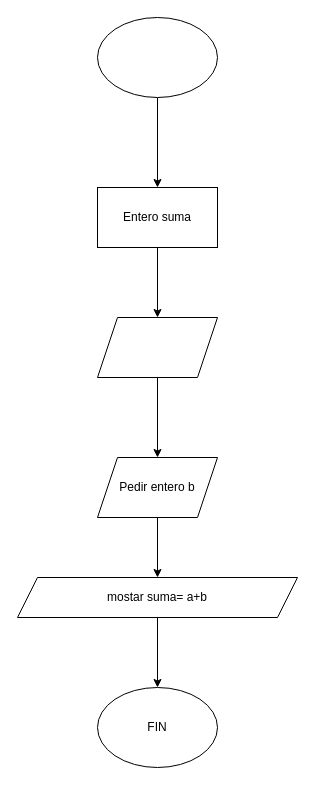
This 315x785 diagram has some shape labels left out. Each missing label, with the box of its shape:
Inicio: (96, 16, 218, 98)
Pedir entero a: (96, 316, 218, 378)
